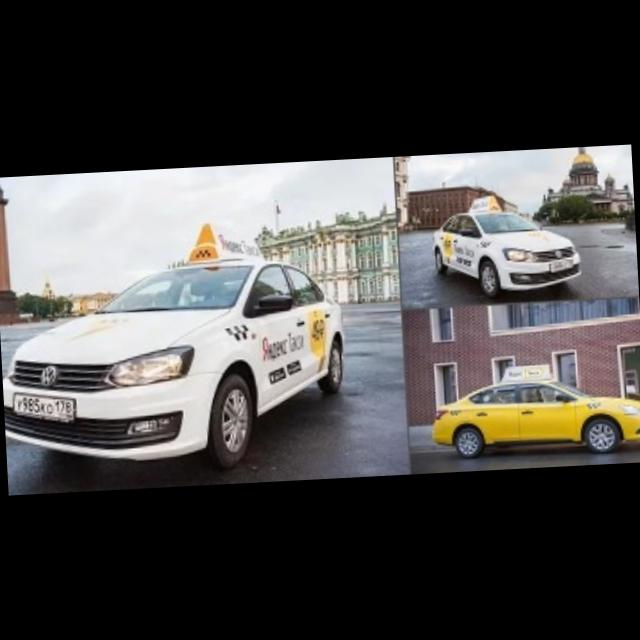taxi: (1, 216, 354, 481), (428, 356, 640, 464), (433, 189, 585, 302)
